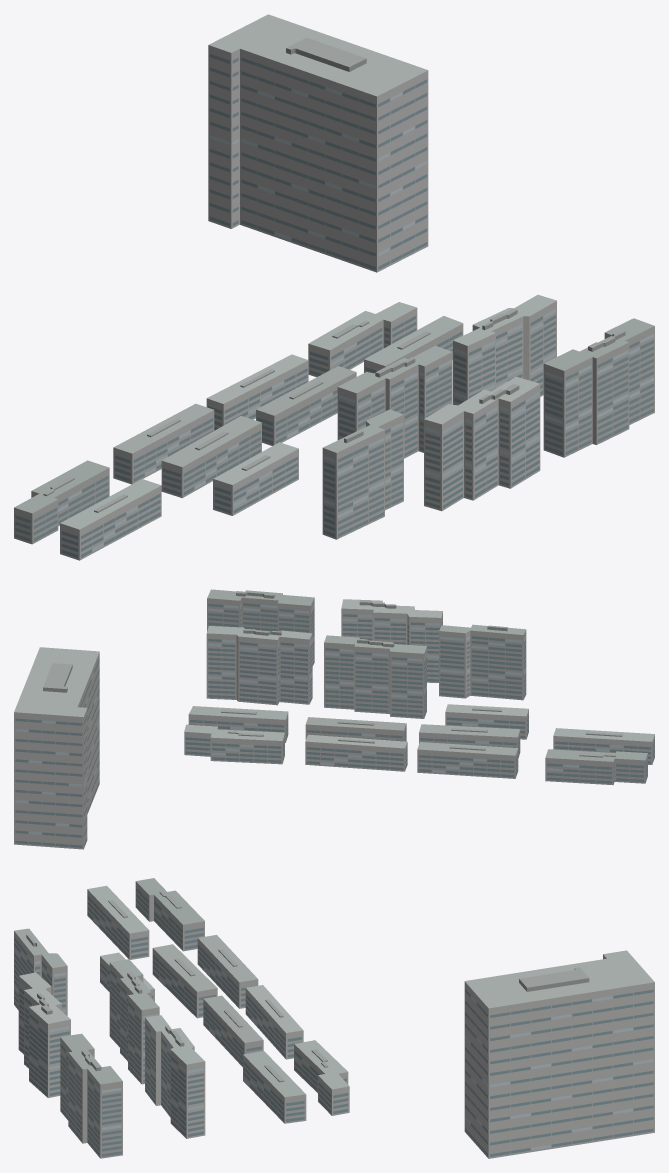
Rendered from apt-a13594403.glb.
3 renders of one model, top to bottom at view 1: azimuth 30°, elevation 25°; view 2: azimuth 150°, elevation 25°; view 3: azimuth 270°, elevation 25°, orthographic. The views are drawn at different scales.
Parts seen in each view (by area): view 1: apt-a13594403; view 2: apt-a13594403; view 3: apt-a13594403.
Part boxes in pixels (<box>): apt-a13594403: <box>14,14,654,560</box>; apt-a13594403: <box>14,589,654,849</box>; apt-a13594403: <box>14,878,654,1158</box>.
Bounding box in the file's own units: 314 × 89 × 334.
